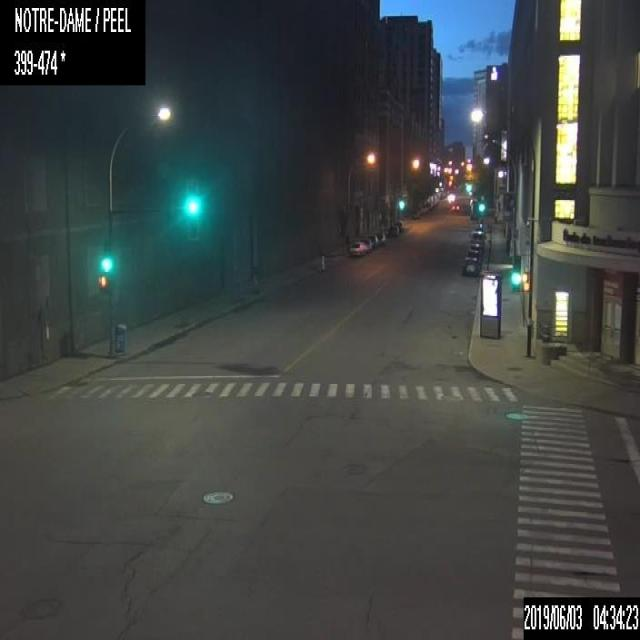construction: (319, 254, 325, 272)
vehicle: (461, 256, 478, 276), (468, 230, 484, 246), (358, 236, 372, 252), (464, 249, 480, 263), (349, 240, 363, 256), (465, 243, 480, 254), (367, 233, 378, 248), (394, 220, 404, 232), (450, 200, 460, 212), (410, 207, 420, 218), (388, 224, 398, 234), (377, 233, 384, 244)
